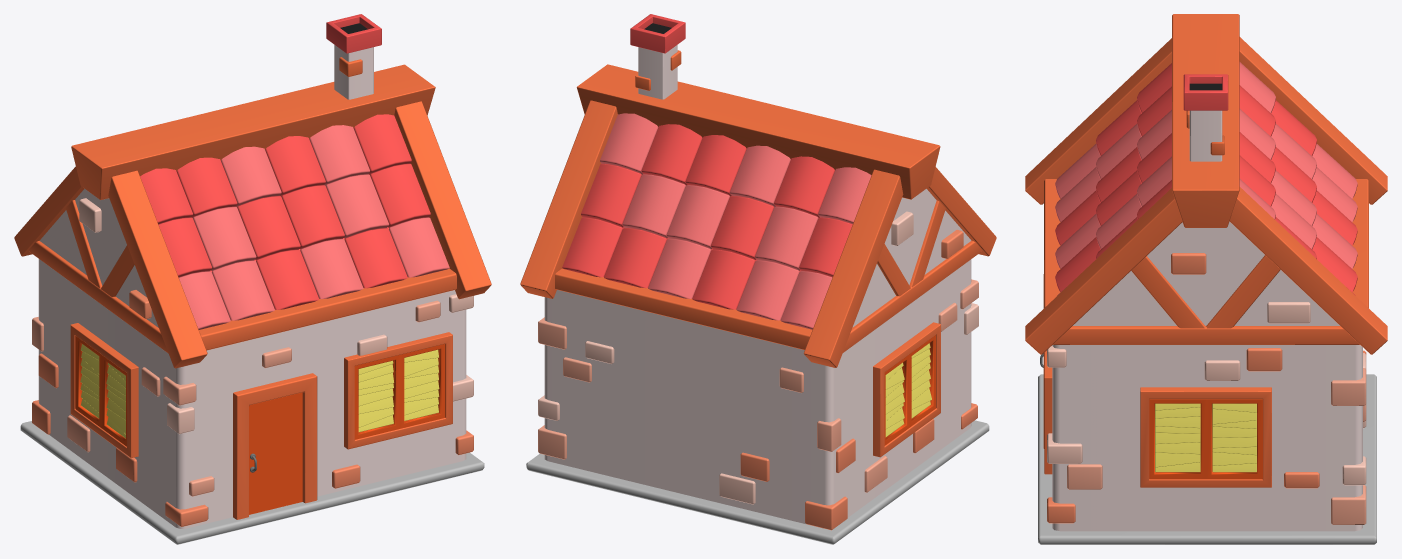
Rendered from Farm_18_House_1.glb.
The picture shows the model from 3 angles, left to right: view 1: azimuth 30°, elevation 25°; view 2: azimuth 150°, elevation 25°; view 3: azimuth 270°, elevation 25°; orthographic projection. The views are drawn at different scales.
Parts seen in each view (by area): view 1: Farm_18_House_1; view 2: Farm_18_House_1; view 3: Farm_18_House_1.
Boxes of the visible parts, x1,y1,x2,y2 form: Farm_18_House_1: (14, 14, 491, 544); Farm_18_House_1: (520, 14, 996, 544); Farm_18_House_1: (1025, 14, 1387, 544).
Size of the model in its own units: 7.02 by 8.06 by 6.09.
Materials: 1 (1 with a texture image).
